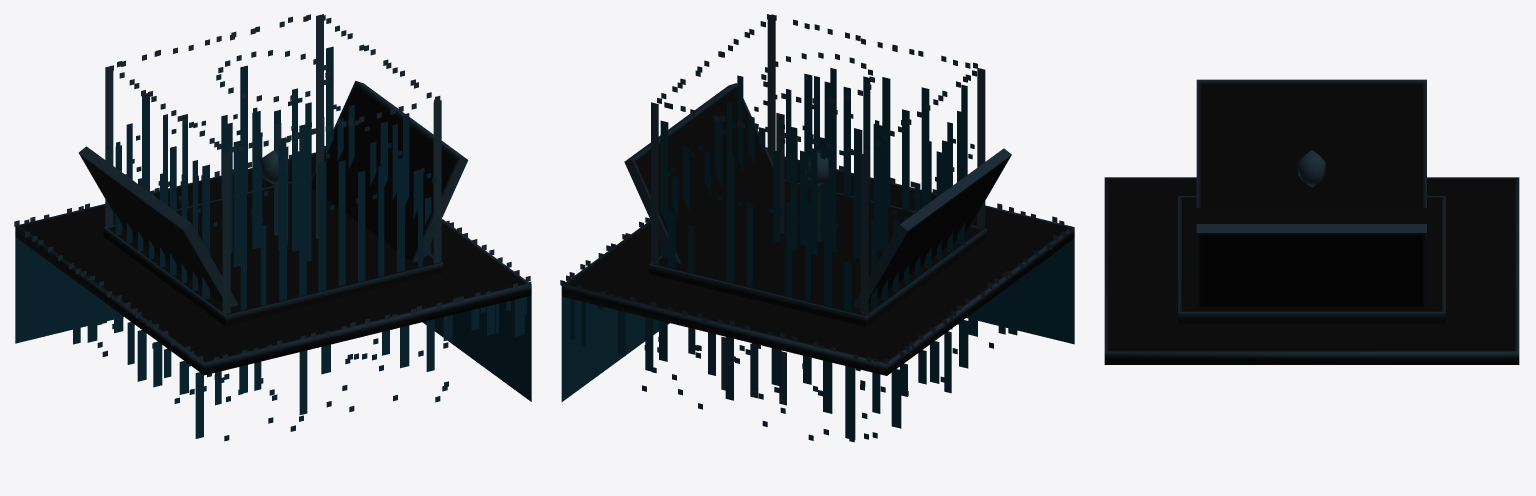
File: vault.glb
3 views of the same model, side by side, from view 1: azimuth 30°, elevation 25°; view 2: azimuth 150°, elevation 25°; view 3: azimuth 270°, elevation 25° (orthographic). The views are drawn at different scales.
Visible parts, largest first — view 1: vault_body, closed_cage, open_wings, closed_lid, vault_streaks_hang, vault_skirt, open_column, closed_ring_top, vault_rim_pts, vault_base_pts, closed_ring_mid, open_rings; view 2: vault_body, closed_cage, open_wings, closed_lid, vault_streaks_hang, vault_skirt, open_column, closed_ring_top, vault_rim_pts, vault_base_pts, open_rings, closed_ring_mid; view 3: open_wings, vault_body, closed_lid, closed_core.
Boxes of the visible parts, x1,y1,x2,y2 form: vault_body: [15, 152, 531, 375]; closed_cage: [105, 14, 441, 314]; open_wings: [78, 81, 468, 306]; closed_lid: [103, 181, 443, 325]; vault_streaks_hang: [20, 243, 526, 438]; vault_skirt: [15, 237, 531, 401]; open_column: [224, 88, 324, 267]; closed_ring_top: [109, 14, 440, 152]; vault_rim_pts: [14, 145, 531, 361]; vault_base_pts: [97, 323, 448, 441]; closed_ring_mid: [106, 97, 436, 233]; open_rings: [216, 50, 330, 102]; vault_body: [561, 156, 1074, 375]; closed_cage: [651, 17, 985, 315]; open_wings: [624, 83, 1011, 307]; closed_lid: [649, 179, 986, 326]; vault_streaks_hang: [570, 242, 1074, 440]; vault_skirt: [561, 239, 1074, 401]; open_column: [773, 68, 882, 259]; closed_ring_top: [657, 14, 977, 155]; vault_rim_pts: [560, 147, 1072, 364]; vault_base_pts: [642, 323, 993, 442]; open_rings: [761, 52, 874, 104]; closed_ring_mid: [668, 94, 974, 235]; open_wings: [1196, 79, 1426, 306]; vault_body: [1104, 177, 1519, 364]; closed_lid: [1178, 196, 1445, 323]; closed_core: [1298, 150, 1325, 187].
Bounding box in the file's own units: 0.9277 × 0.807 × 0.9085.
